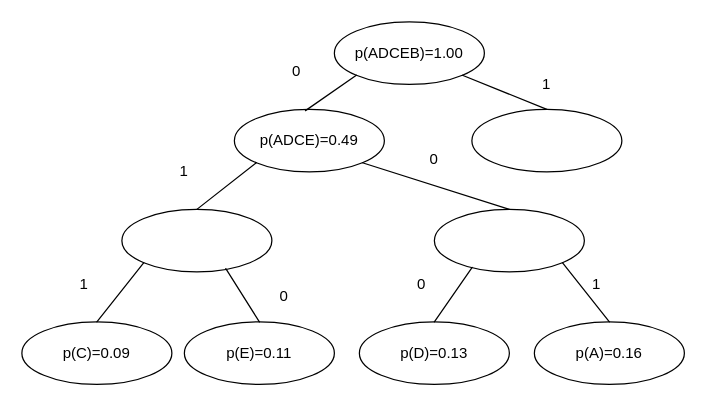
Image size: 706x406. Some labels were removed from this diagram. Each missing label, with the centre of its shape:
"p(AD)=0.29" goes at point (508, 240).
"p(B)=0.51" goes at point (546, 140).
"p(CE)=0.20" goes at point (196, 240).
